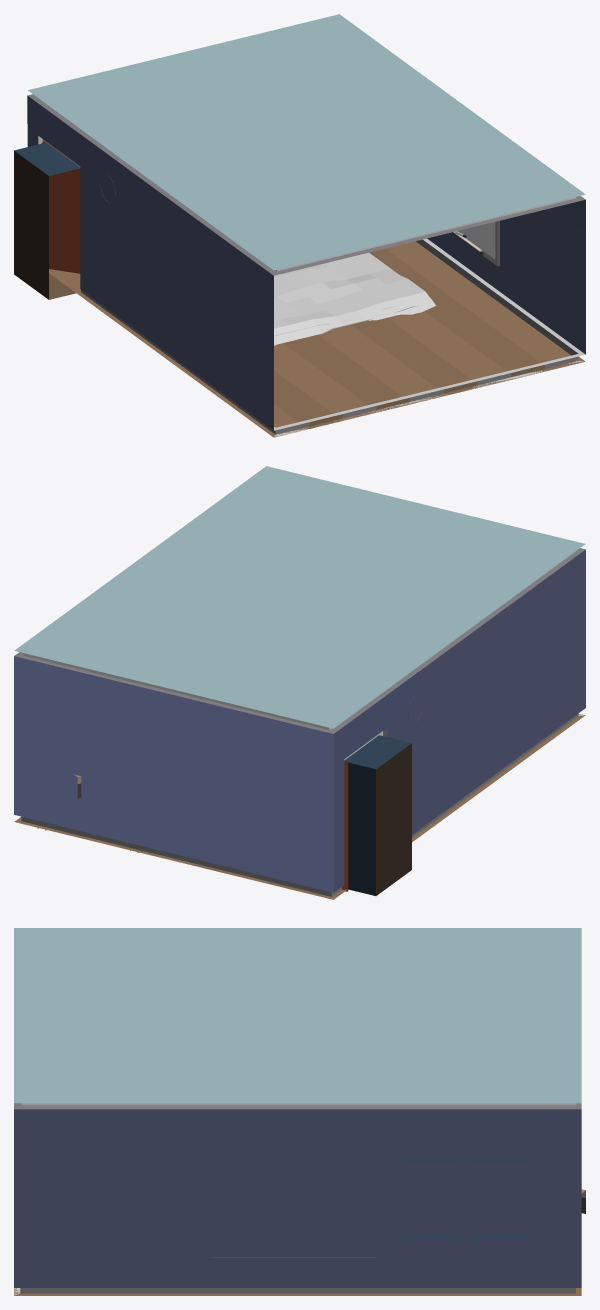
Rendered from room_04.fbx.
The picture shows the model from 3 angles, top to bottom: view 1: azimuth 30°, elevation 25°; view 2: azimuth 150°, elevation 25°; view 3: azimuth 270°, elevation 25°; orthographic projection. The views are drawn at different scales.
Parts seen in each view (by area): view 1: room, rug, door, whiteboard, rug_shadow; view 2: room, door; view 3: room, window_frame.
Boxes of the visible parts, left/top/right/bottom form: room: left=14, top=14, right=585, bottom=437; rug: left=274, top=252, right=429, bottom=335; door: left=41, top=142, right=80, bottom=273; whiteboard: left=451, top=220, right=499, bottom=266; rug_shadow: left=274, top=297, right=435, bottom=345; room: left=14, top=466, right=585, bottom=899; door: left=342, top=762, right=348, bottom=891; room: left=14, top=928, right=581, bottom=1295; window_frame: left=400, top=1159, right=527, bottom=1238.
Size of the model in its own units: 705 by 335 by 881.
